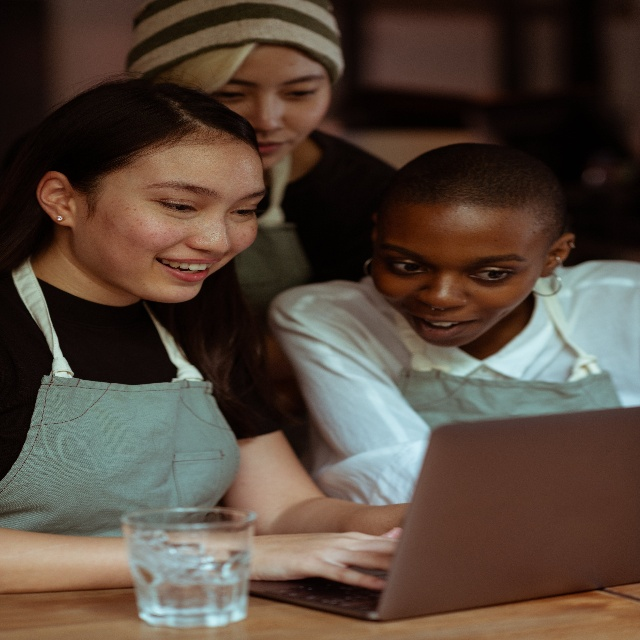Sin_guantes: (253, 531, 397, 580)
